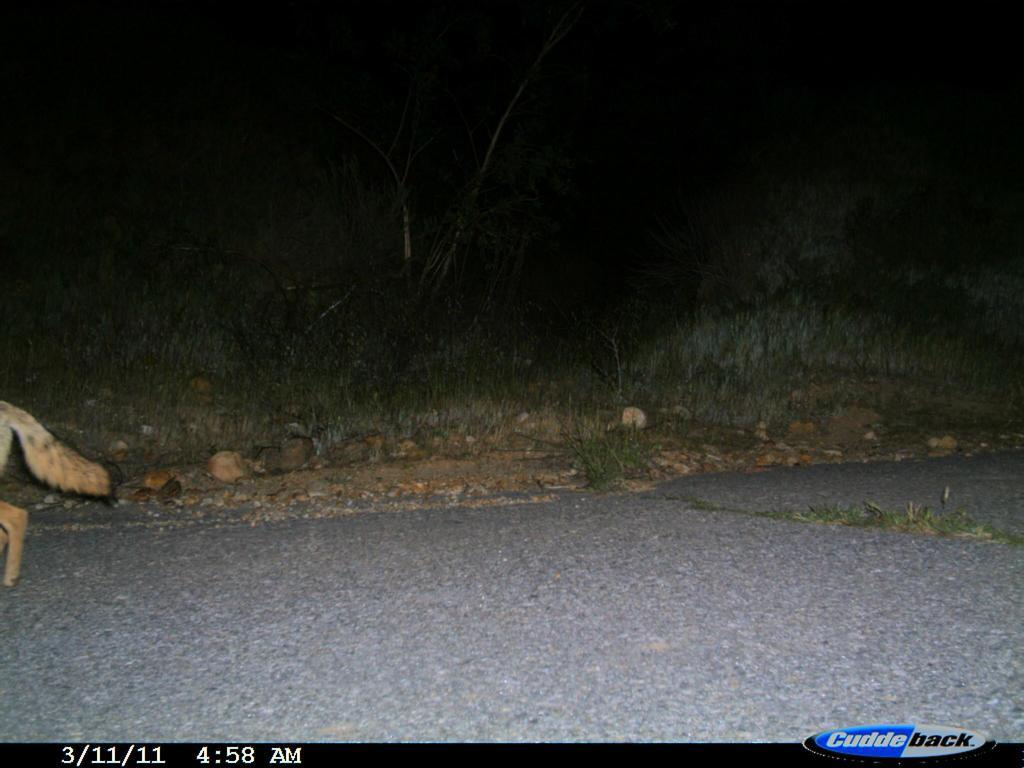coyote: (1, 387, 120, 593)
